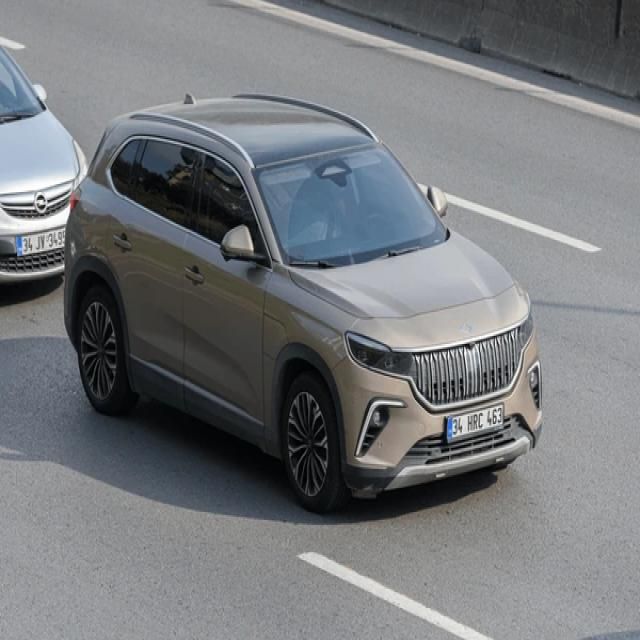togg: (458, 319, 477, 339)
